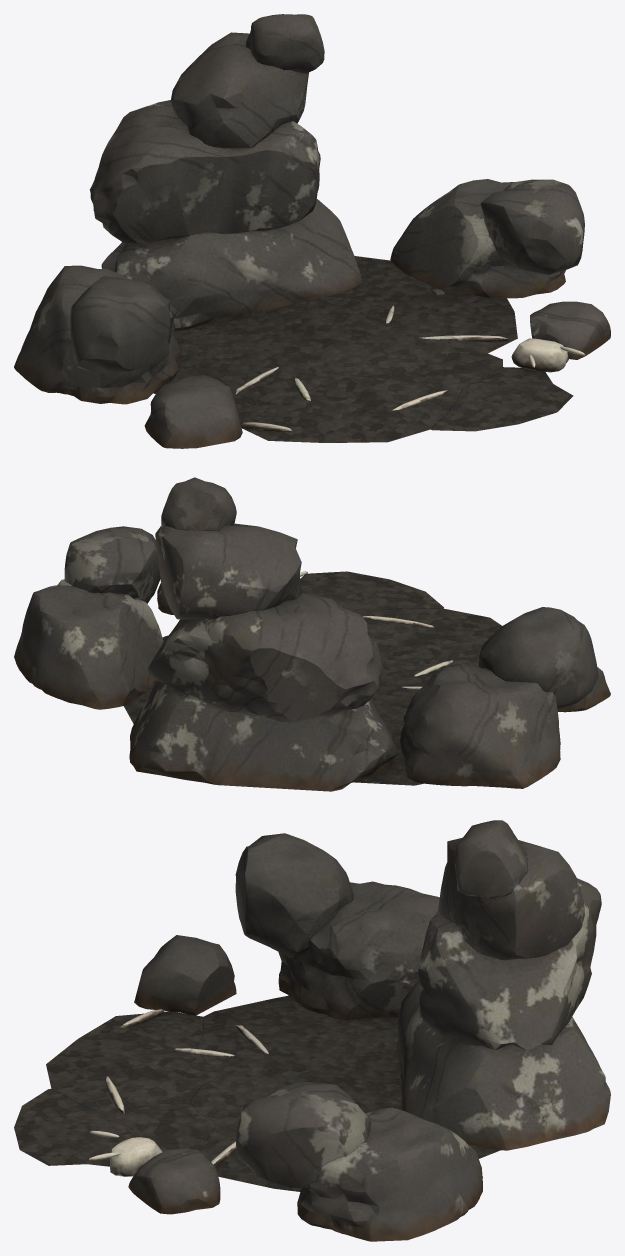
File: dragon_lair.glb
3 renders of one model, top to bottom at view 1: azimuth 30°, elevation 25°; view 2: azimuth 150°, elevation 25°; view 3: azimuth 270°, elevation 25°, orthographic. The views are drawn at different scales.
Visible parts, largest first — view 1: dragon_lair_LOD0; view 2: dragon_lair_LOD0; view 3: dragon_lair_LOD0.
Part boxes in pixels (<box>): dragon_lair_LOD0: <box>14,14,610,448</box>; dragon_lair_LOD0: <box>14,477,610,791</box>; dragon_lair_LOD0: <box>14,820,610,1241</box>.
Size of what is drawn, in the model's own units: 9.86 by 4.55 by 8.56.
Materials: 1 (1 with a texture image).
